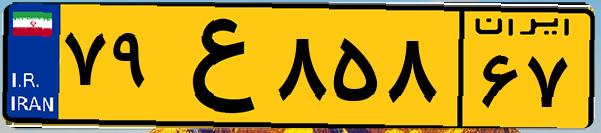5: (330, 28, 385, 110)
6: (475, 38, 525, 113)
7: (57, 26, 110, 100), (525, 38, 570, 115)
8: (270, 28, 330, 110), (385, 28, 445, 110)
9: (110, 28, 158, 98)
ع: (158, 12, 270, 120)
